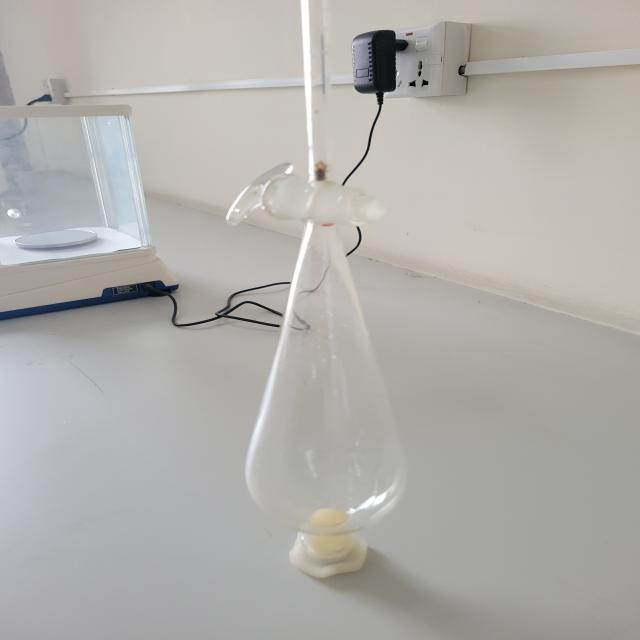Separating_Funnel: (202, 2, 452, 601)
